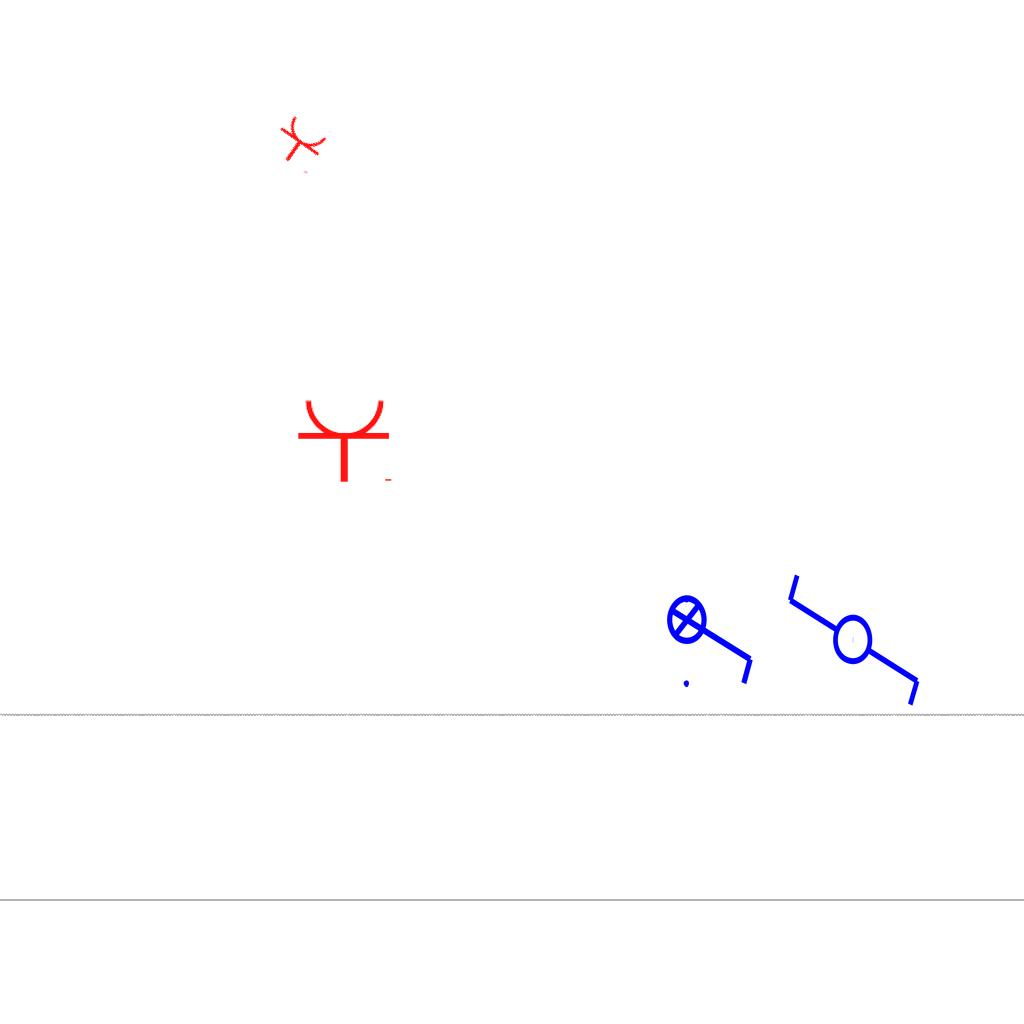Ausschalter_beleuchtet: (665, 581, 761, 693)
Schukosteckdose_einfach: (296, 397, 396, 484), (266, 112, 333, 176)
Wechselschalter: (783, 553, 927, 710)
